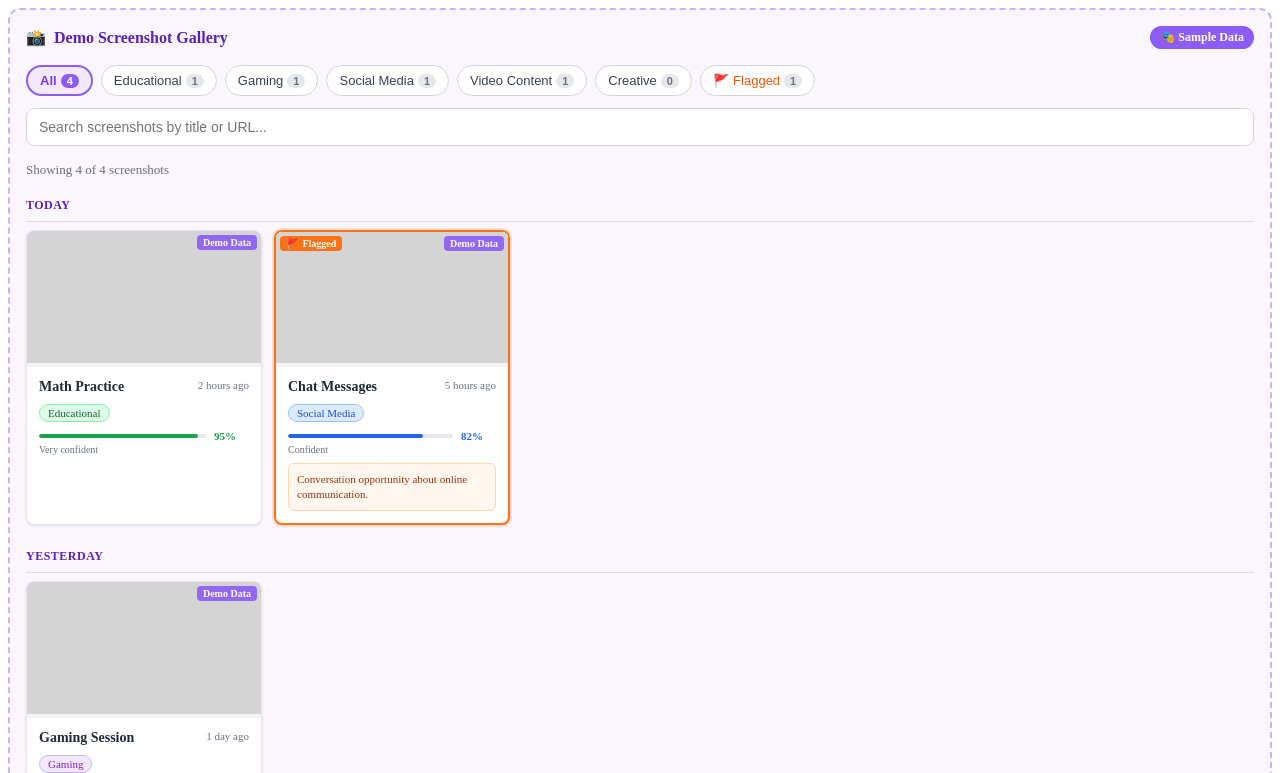
Test case: DemoScreenshotGallery (Story 8.5.2) › AC6: Filter chips › should reset to all when All chip clicked
This screenshot has width=1280, height=773.
# Click Gaming filter first
Click the button with test id "filter-chip-gaming".
click(272, 80)  # box [225, 65, 318, 96]
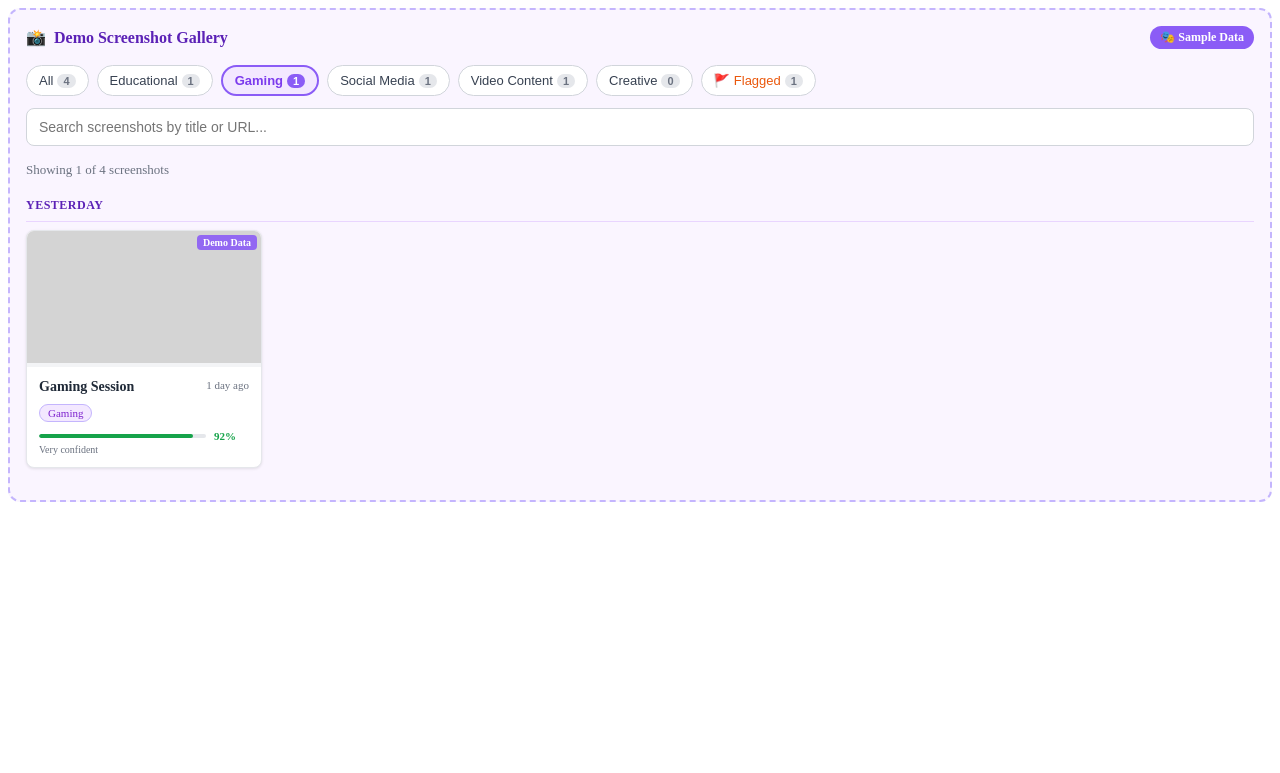
Check: the text with test id "results-count" shows "Showing 1 of 4", box [26, 162, 169, 177]
# Click All filter
Click the button with test id "filter-chip-all".
click(57, 80)  # box [26, 65, 89, 96]
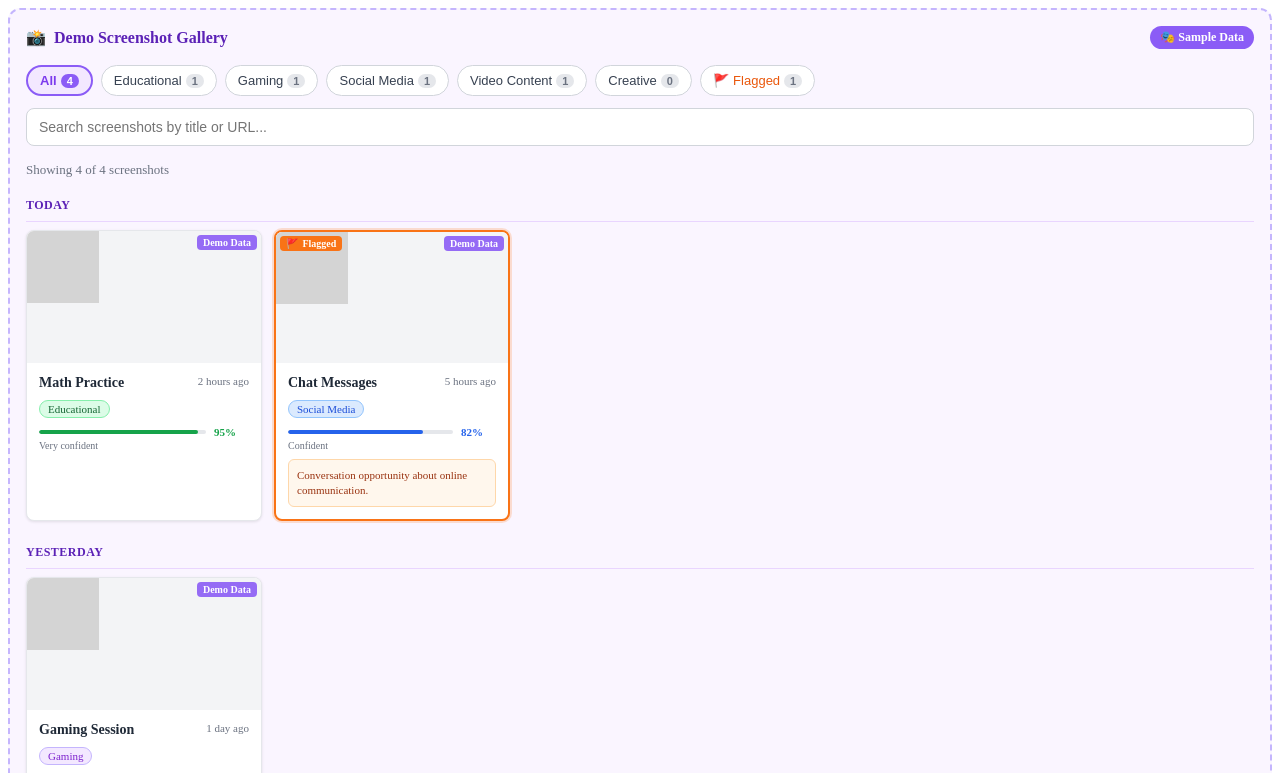
Check: the text with test id "results-count" shows "Showing 4 of 4", box [26, 162, 169, 177]
